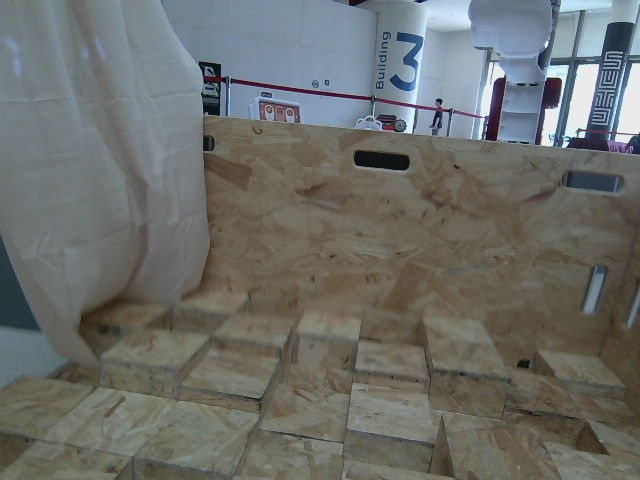curtain: (0, 0, 224, 360)
